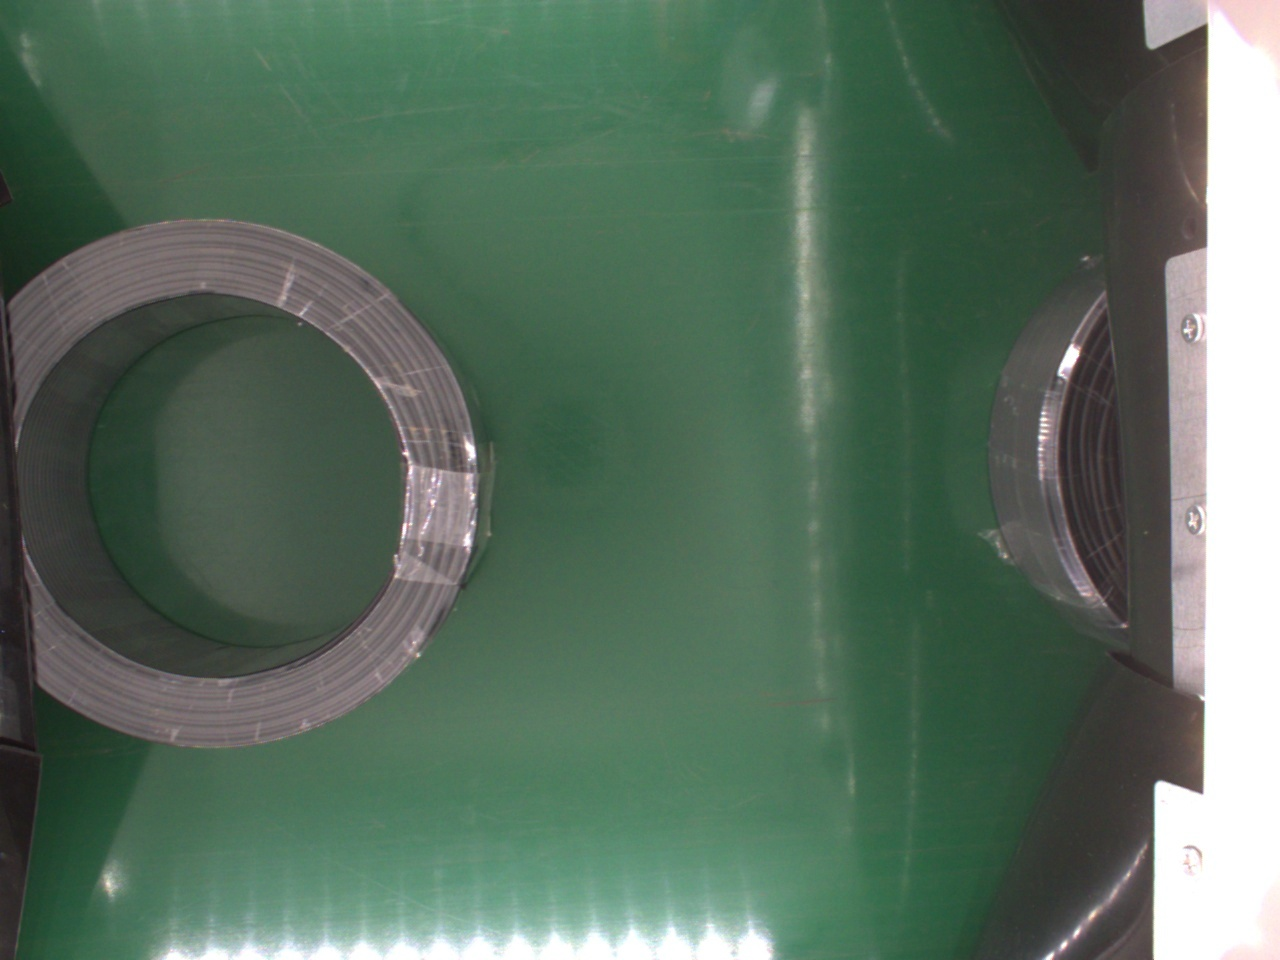black: (25, 215, 488, 749), (985, 263, 1136, 661)
